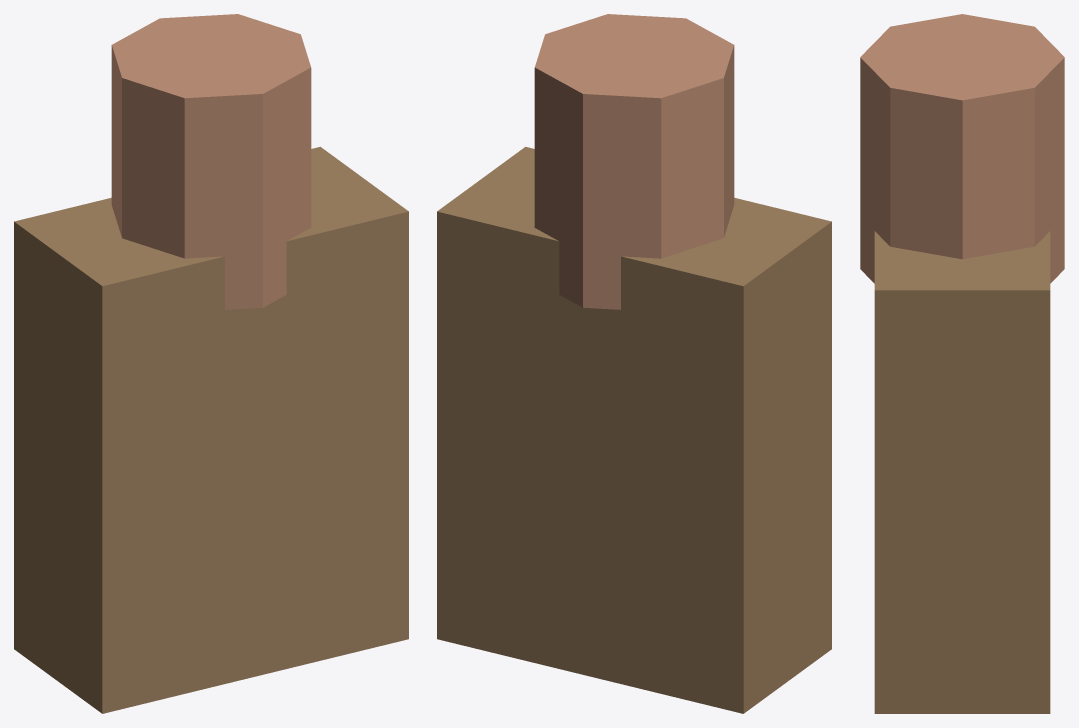
File: SM_KeyLock.fbx
The picture shows the model from 3 angles, left to right: view 1: azimuth 30°, elevation 25°; view 2: azimuth 150°, elevation 25°; view 3: azimuth 270°, elevation 25°; orthographic projection.
Parts seen in each view (by area): view 1: SM_KeyLock; view 2: SM_KeyLock; view 3: SM_KeyLock.
Part boxes in pixels (x1,y1,x2,y2): SM_KeyLock: (14,14,408,713); SM_KeyLock: (437,14,831,713); SM_KeyLock: (860,14,1064,713).
Size of the model in its own units: 1200 by 700 by 2200.
